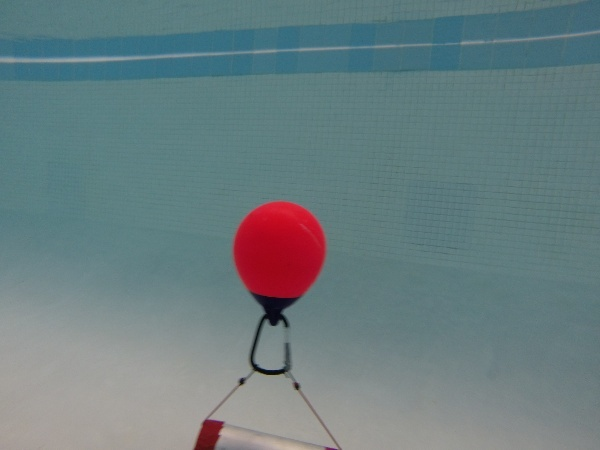buoy_red: (226, 198, 329, 327)
